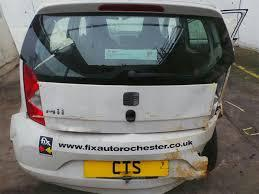Bumper: (168, 118, 222, 193)
Light: (207, 64, 236, 121)
